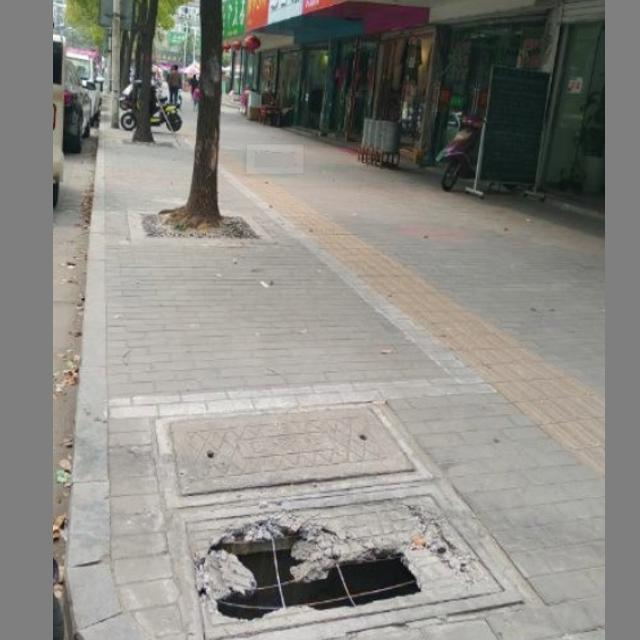broke: (175, 484, 524, 640)
good: (154, 398, 433, 507)
